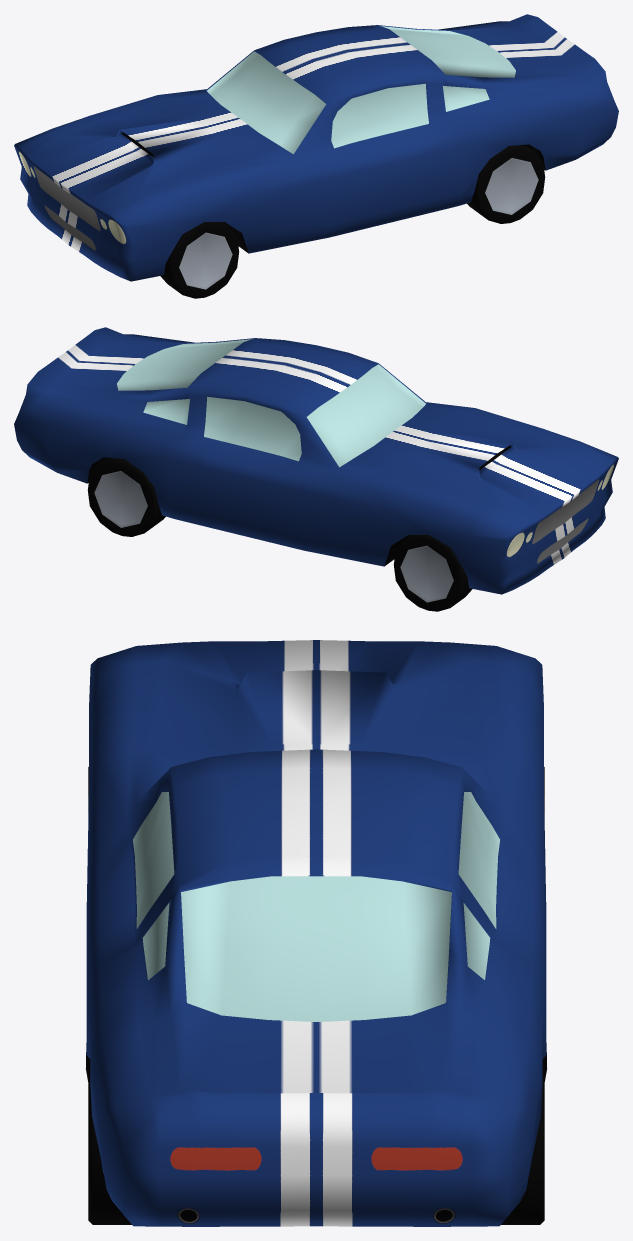
File: Mustang.FBX
3 renders of one model, top to bottom at view 1: azimuth 30°, elevation 25°; view 2: azimuth 150°, elevation 25°; view 3: azimuth 270°, elevation 25°, orthographic. The views are drawn at different scales.
Visible parts, largest first — view 1: Car; view 2: Car; view 3: Car.
Boxes of the visible parts, x1,y1,x2,y2 form: Car: (14,14,618,298); Car: (14,327,618,611); Car: (85,640,547,1226).
Bounding box in the file's own units: 680 × 200 × 265.
